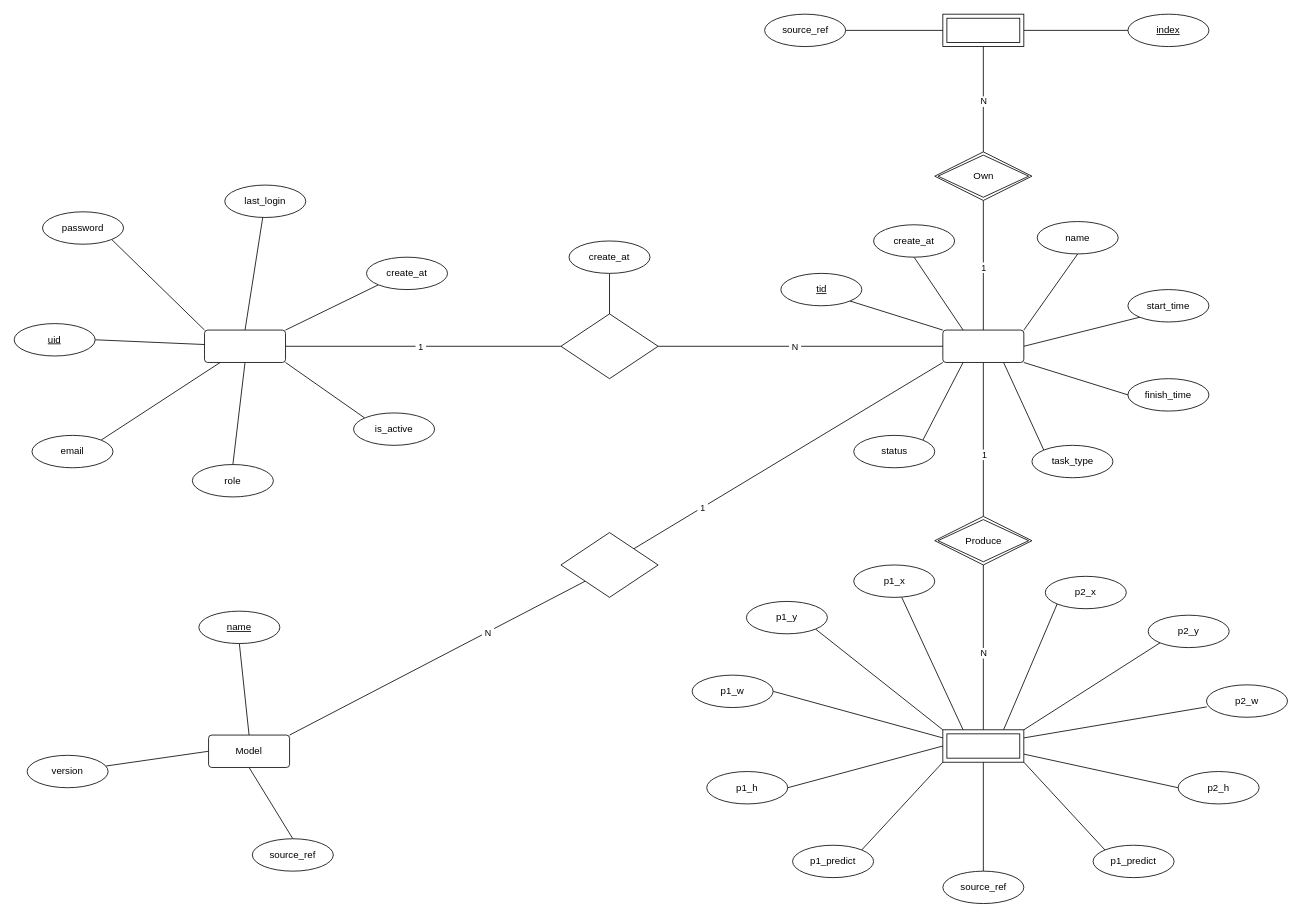
Some shapes in this 1302 by 918 pixel diagram are drawn without their labels. Each missing label, with the centre of its shape:
Create: the point at 609,346
Input: the point at 983,30
Output: the point at 983,745
Task: the point at 983,345
Use: the point at 609,564
User: the point at 245,345
